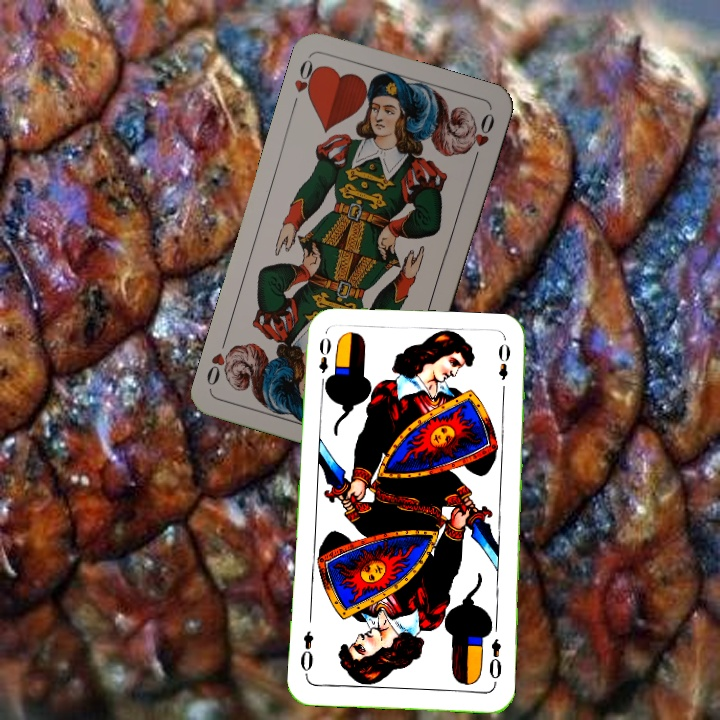EO: (315, 333, 334, 390), (484, 634, 505, 682)
HO: (288, 55, 323, 111)
